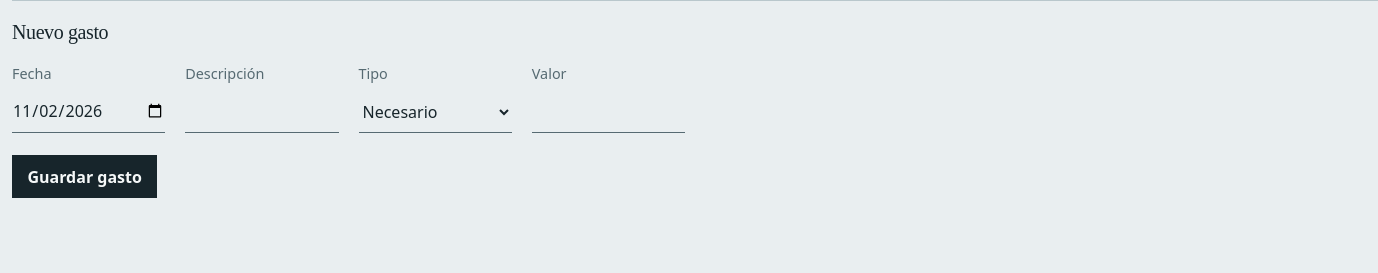
Test: ExpenseForm › shows validation errors and does not submit invalid data
This screenshot has width=1378, height=273.
Click the button "Guardar gasto": (85, 177) [12,155,157,198]
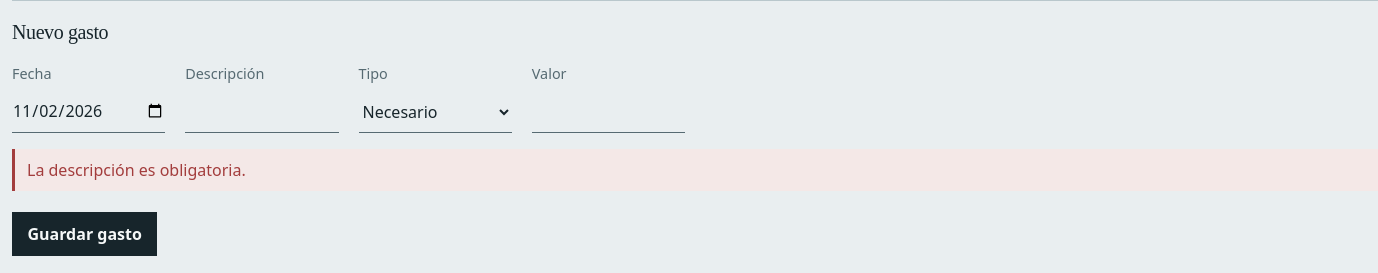
Expected: the message reads "La descripción es obligatoria.", [27,159,246,181]
In the field labelled "Descripción": (262, 112) [185,91,339,133], type "Mercado"
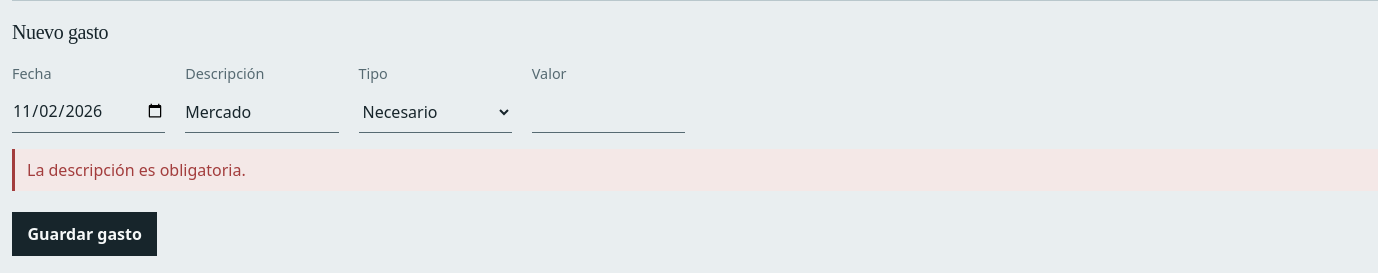
In the number field labelled "Valor": (608, 112) [532,91,685,133], type "-1"
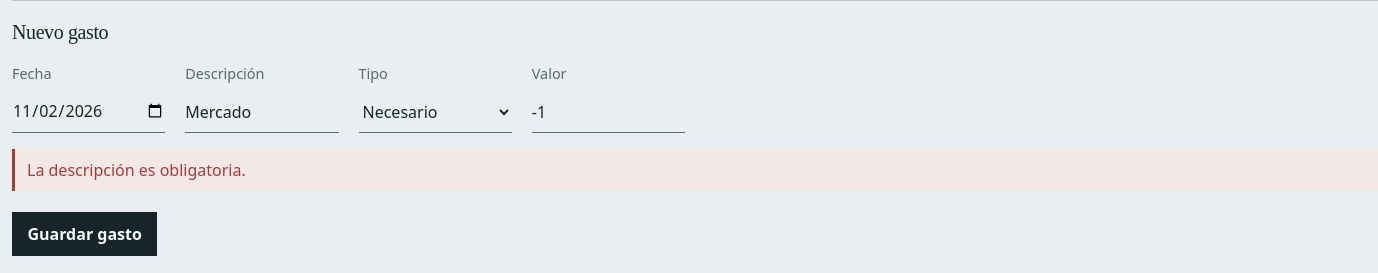
Click the button "Guardar gasto": (85, 234) [12,212,157,256]
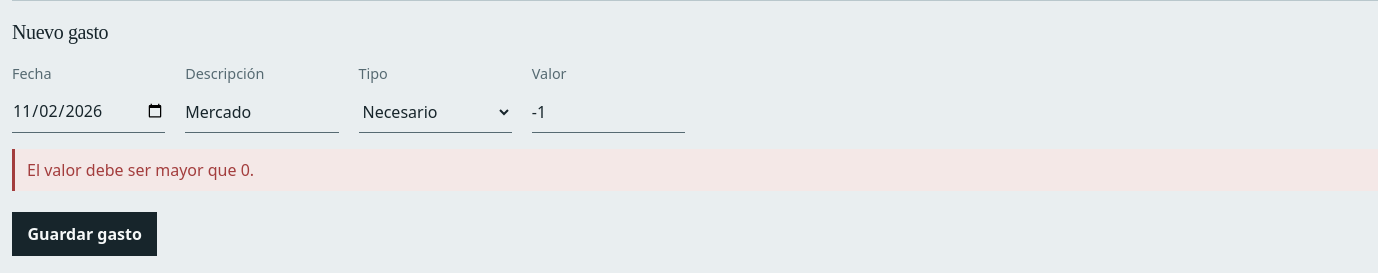
Expected: the message reads "El valor debe ser mayor que 0.", [27,159,254,181]
